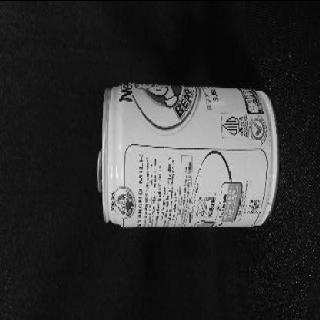alumunium_can: (98, 81, 280, 228)
